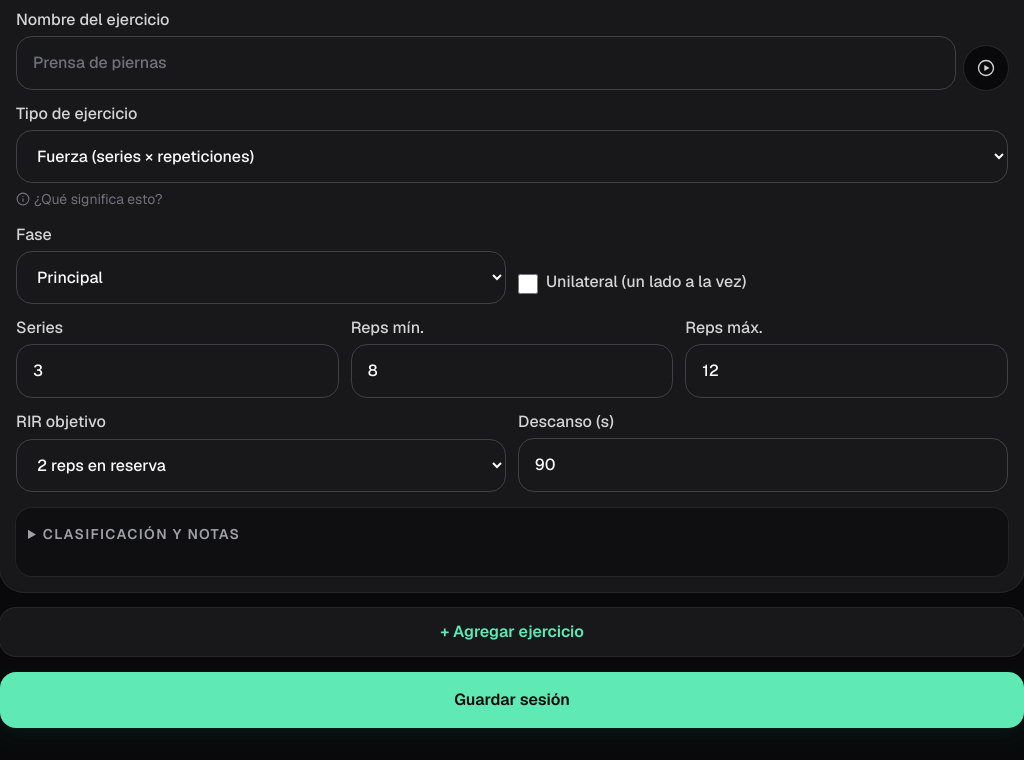
Test: SessionEditorForm › adds and removes exercise rows, keeping at least one
This screenshot has width=1024, height=760.
(page scrolled)
Click the button "+ Agregar ejercicio": (512, 632) [0,608,1023,656]
(page scrolled)
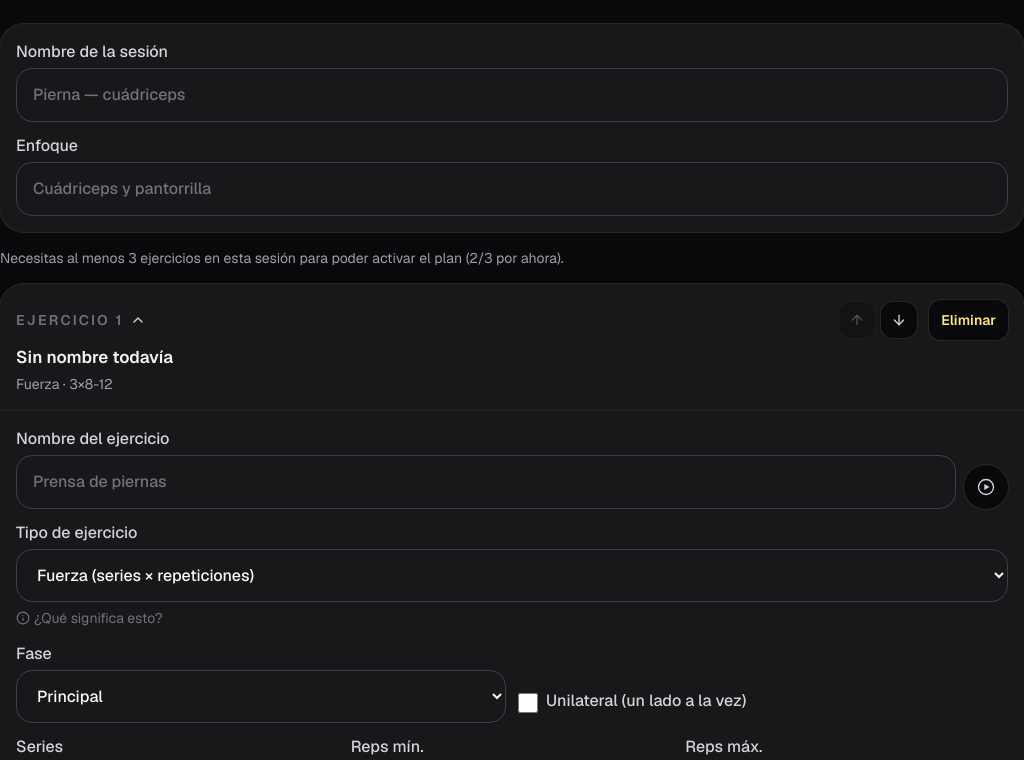
Result: the number of buttons "Eliminar" is 2
Click the button "Eliminar": (969, 320) [929,300,1008,340]
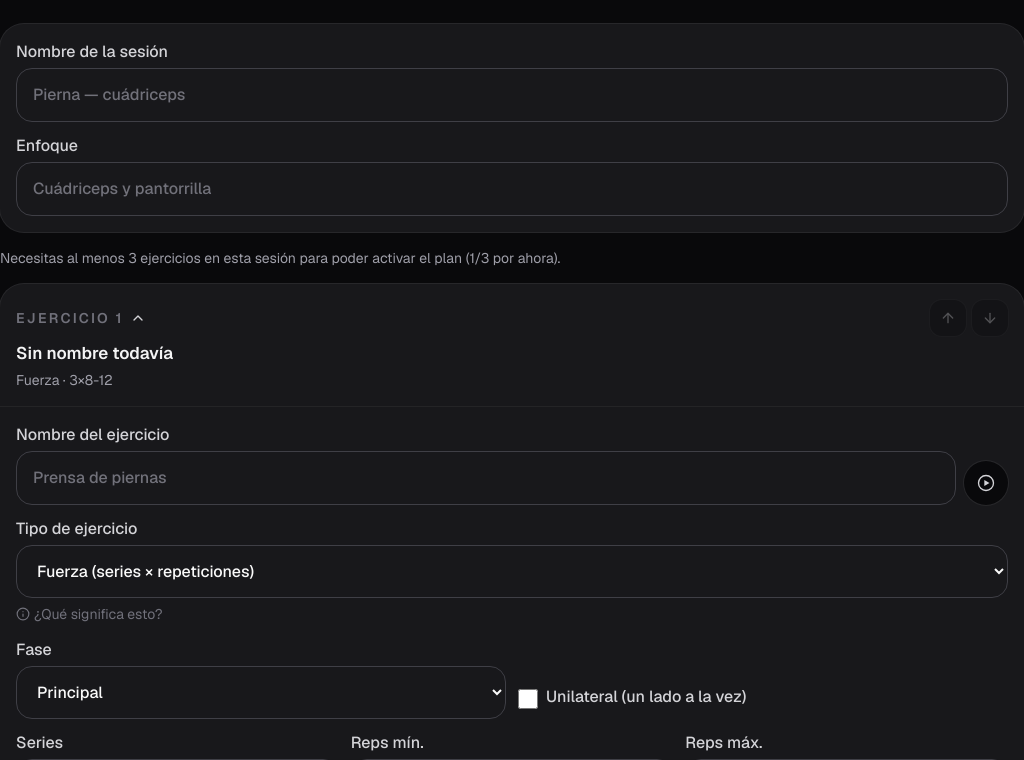
Result: the button "Eliminar" is gone
